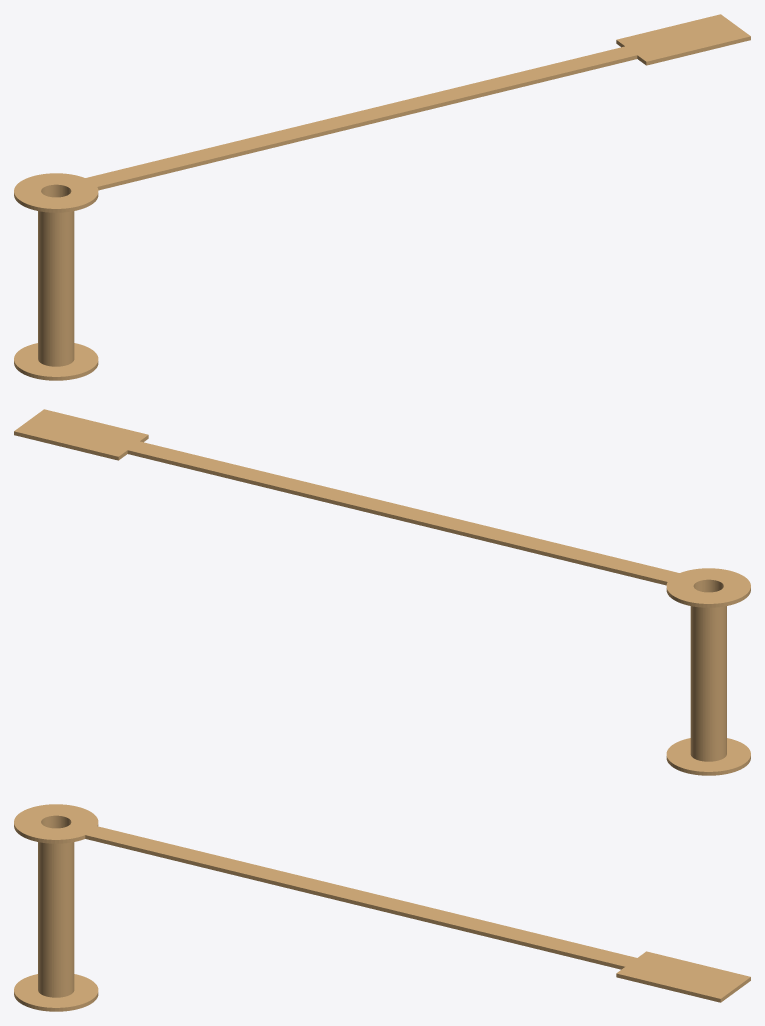
The model's file is board.glb.
The picture shows the model from 3 angles, top to bottom: view 1: azimuth 30°, elevation 25°; view 2: azimuth 150°, elevation 25°; view 3: azimuth 330°, elevation 25°; orthographic projection.
Parts seen in each view (by area): view 1: Unified_Net_2_Island_1, Bare_Via_Tube_0, Unified_Net_1_Island_2, Unified_Net_1_Island_3; view 2: Unified_Net_2_Island_1, Bare_Via_Tube_0, Unified_Net_1_Island_2, Unified_Net_1_Island_3; view 3: Unified_Net_2_Island_1, Bare_Via_Tube_0, Unified_Net_1_Island_2, Unified_Net_1_Island_3.
Boxes of the visible parts, x1,y1,x2,y2 form: Unified_Net_2_Island_1: [85, 14, 750, 190]; Bare_Via_Tube_0: [38, 185, 74, 366]; Unified_Net_1_Island_2: [14, 173, 98, 212]; Unified_Net_1_Island_3: [14, 343, 98, 380]; Unified_Net_2_Island_1: [14, 409, 679, 585]; Bare_Via_Tube_0: [690, 580, 726, 761]; Unified_Net_1_Island_2: [666, 568, 750, 607]; Unified_Net_1_Island_3: [666, 738, 750, 775]; Unified_Net_2_Island_1: [85, 826, 750, 1002]; Bare_Via_Tube_0: [38, 816, 74, 997]; Unified_Net_1_Island_2: [14, 804, 98, 843]; Unified_Net_1_Island_3: [14, 974, 98, 1011].
Size of the model in its own units: 0.00685 by 0.00157 by 0.0007.
